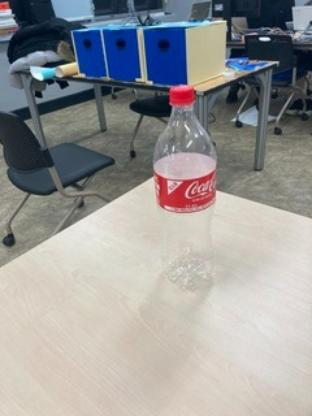Plastic Bottle: (152, 80, 222, 296)
